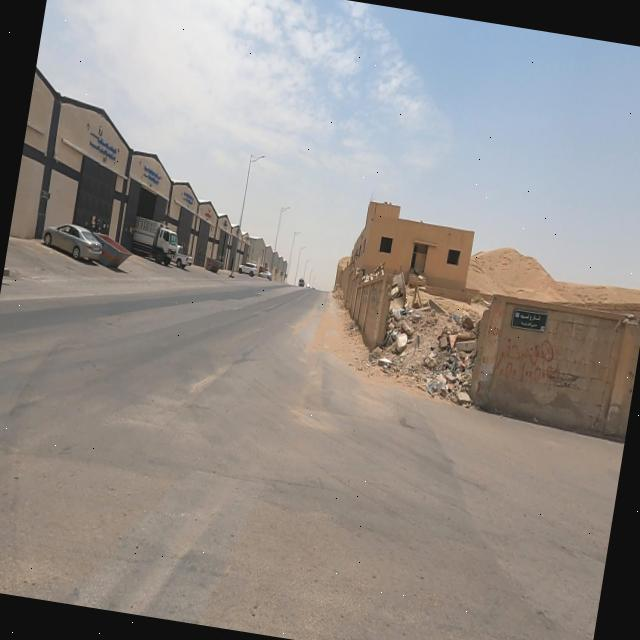Graffiti: (551, 314, 617, 387), (494, 331, 559, 392), (369, 286, 385, 314), (488, 324, 505, 342), (361, 291, 371, 308)
